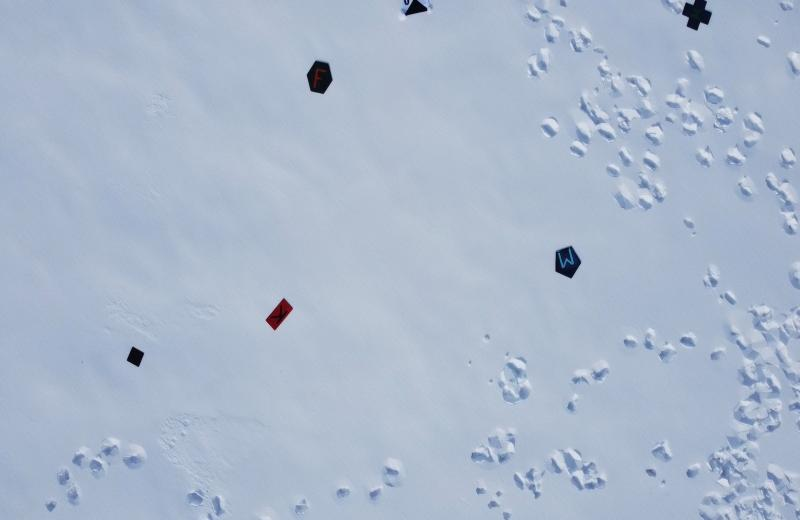Cross: (677, 0, 716, 33)
Hexagon: (304, 56, 335, 98)
Pentagon: (549, 242, 585, 280)
Rectangle: (262, 292, 296, 334)
Square: (125, 342, 147, 370)
